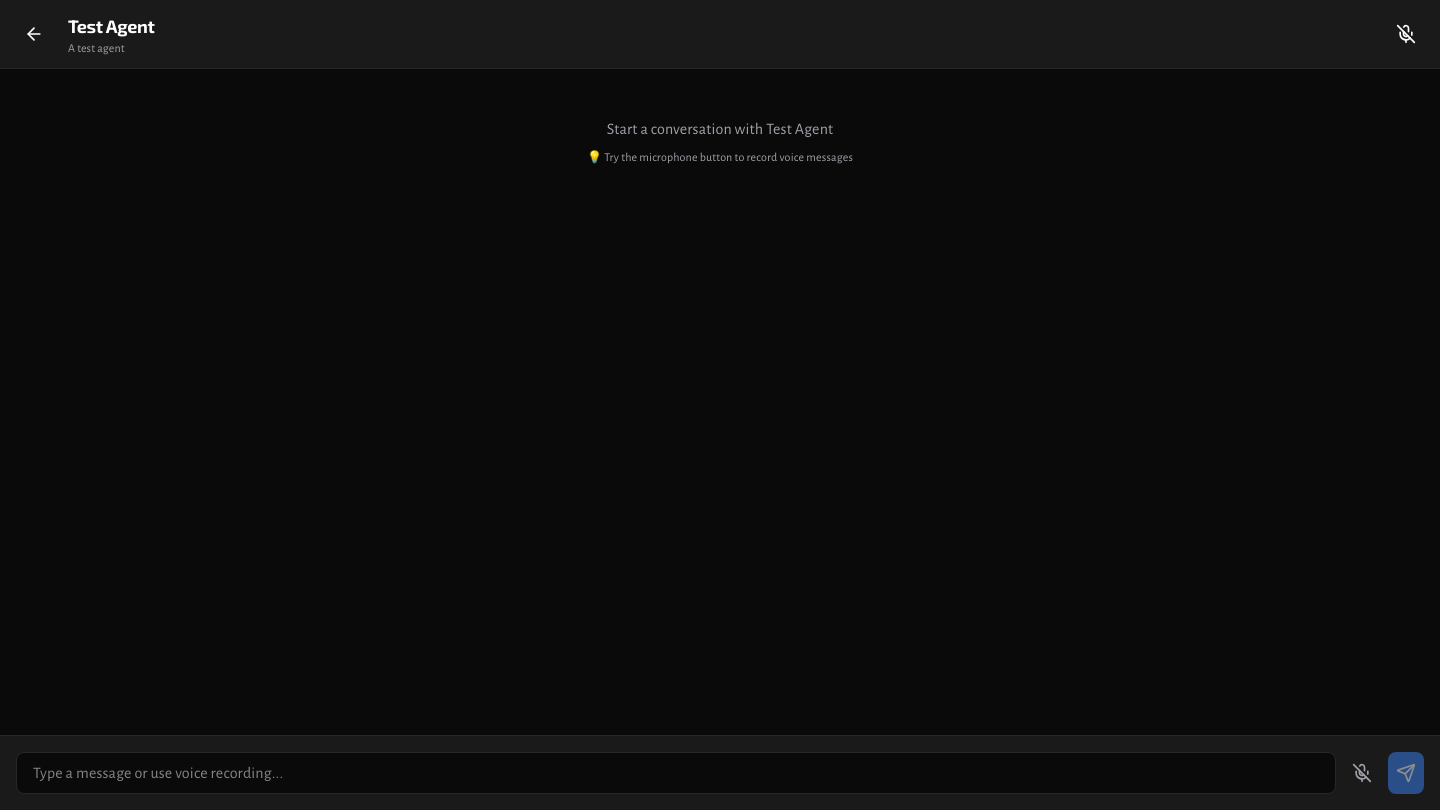
it: ChatInterface › displays messages with proper formatting
The image size is (1440, 810).
Type "Test message" into the text box with placeholder "Type a message or use voice recording...".
click(676, 773); type("Test message")  # box top-left (16, 752), bottom-right (1336, 794)
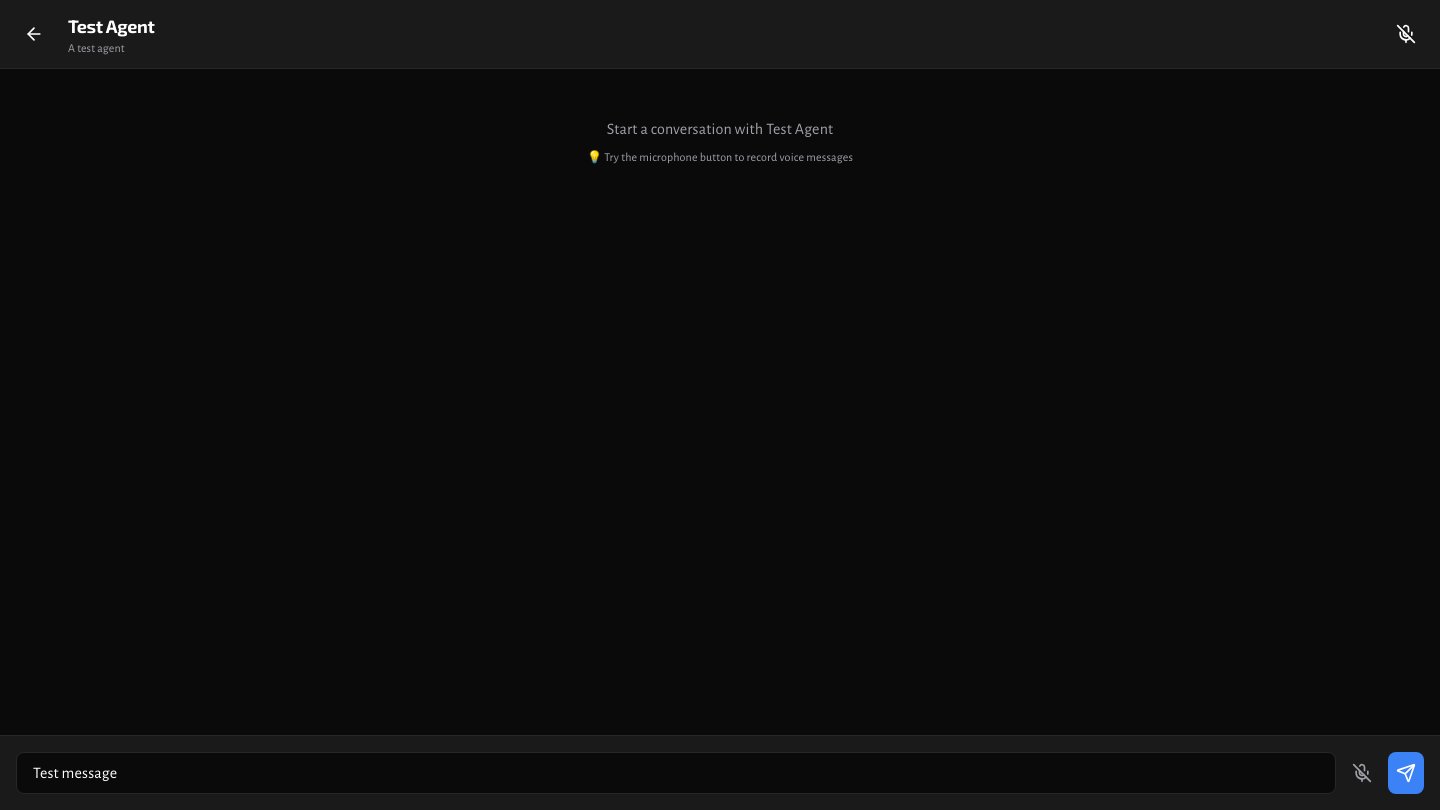
Click the button named "Send message".
click(1406, 773)  # box top-left (1388, 752), bottom-right (1424, 794)
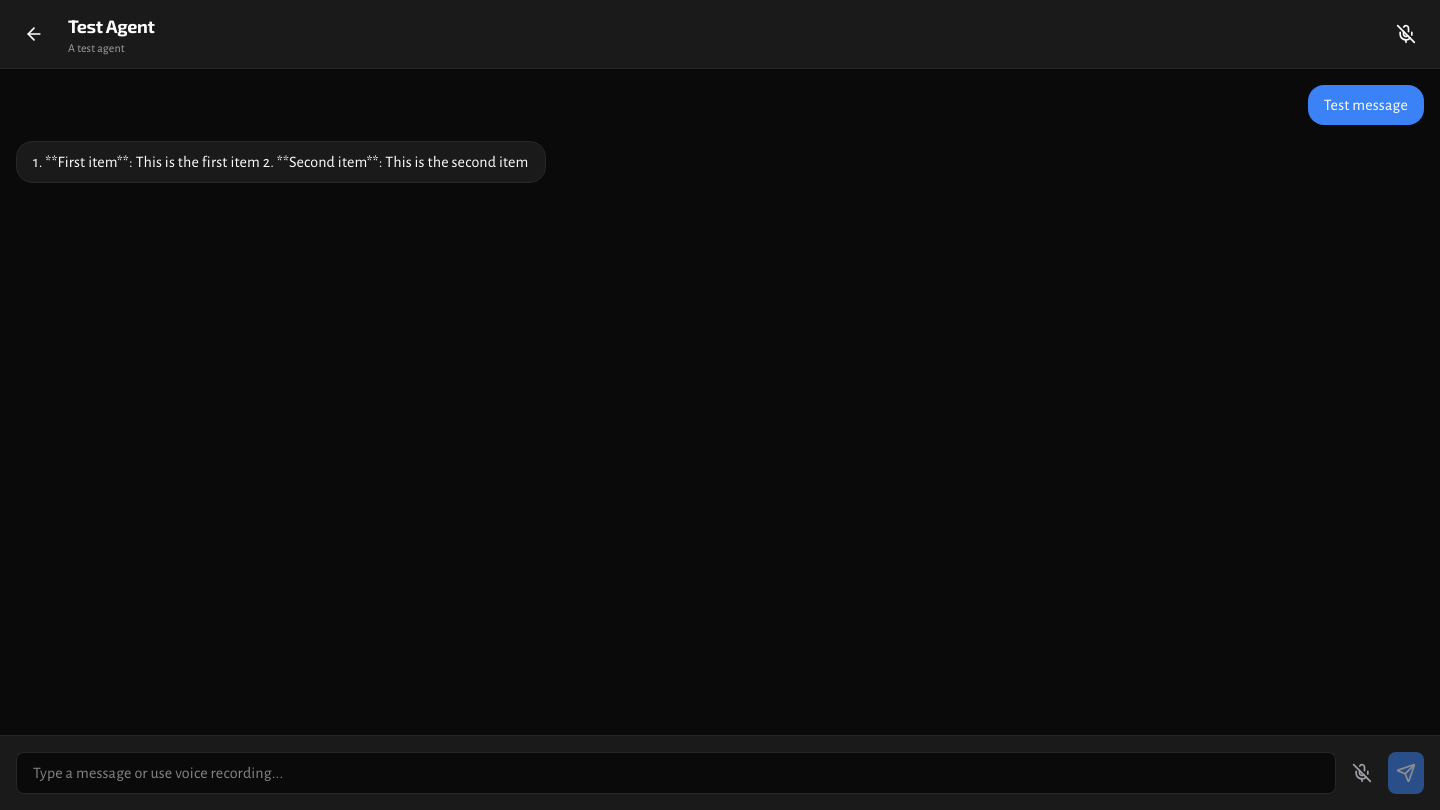
Check: the text "Test message" is shown, box top-left (1308, 85), bottom-right (1424, 125)
